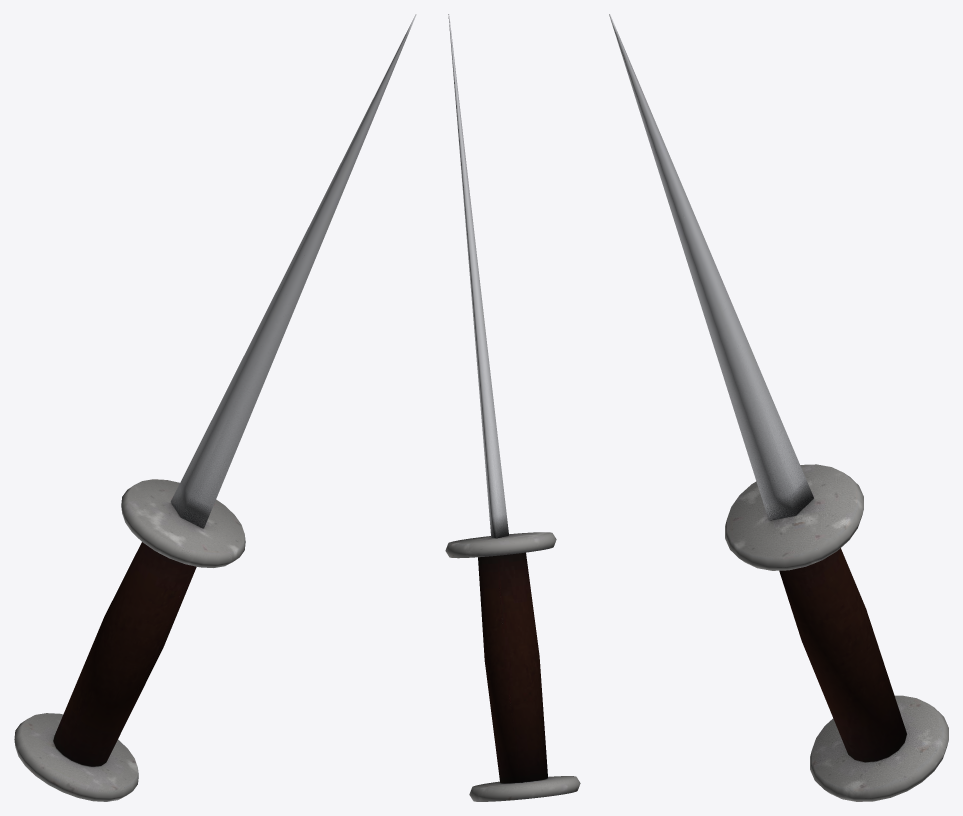
Rendered from dagger.glb.
3 views of the same model, side by side, from view 1: azimuth 30°, elevation 25°; view 2: azimuth 150°, elevation 25°; view 3: azimuth 270°, elevation 25° (orthographic). The views are drawn at different scales.
Visible parts, largest first — view 1: blade; view 2: blade; view 3: blade.
Part boxes in pixels (left/top/right/bottom): blade: left=14, top=14, right=416, bottom=801; blade: left=445, top=14, right=580, bottom=801; blade: left=609, top=14, right=948, bottom=801.
Bounding box in the file's own units: 0.1497 × 0.4271 × 0.1496.
Materials: 1 (1 with a texture image).
